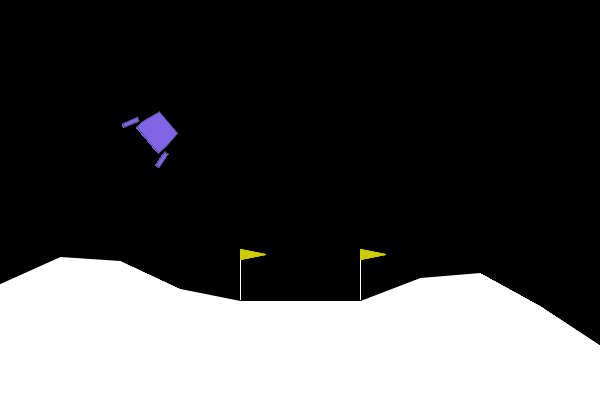lander: (120, 99, 189, 170)
